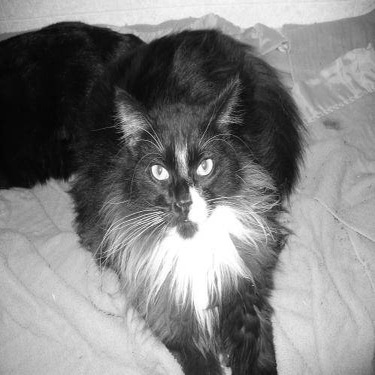cat: (5, 19, 305, 371)
